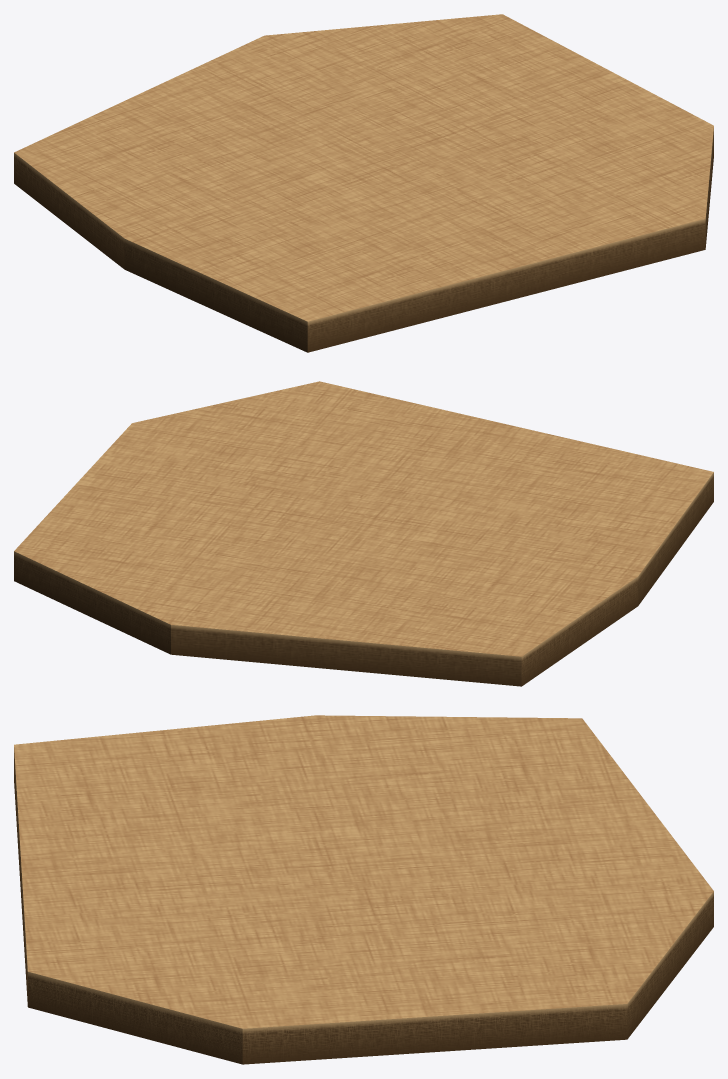
The model's file is Terrain03_A.FBX.
3 renders of one model, top to bottom at view 1: azimuth 30°, elevation 25°; view 2: azimuth 150°, elevation 25°; view 3: azimuth 270°, elevation 25°, orthographic. The views are drawn at different scales.
Visible parts, largest first — view 1: Terrain03_A; view 2: Terrain03_A; view 3: Terrain03_A.
Boxes of the visible parts, x1,y1,x2,y2 form: Terrain03_A: (14,14,713,352); Terrain03_A: (14,381,713,686); Terrain03_A: (14,715,713,1064).
Size of the model in its own units: 945 by 50.36 by 892.
Materials: 1 (1 with a texture image).
